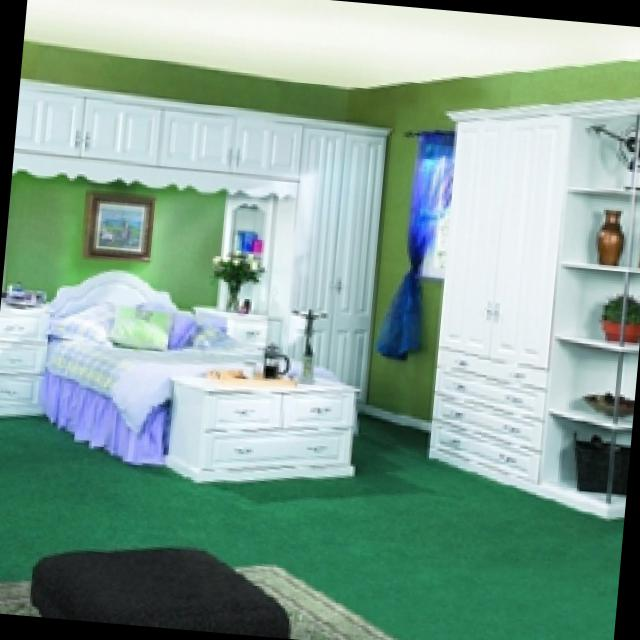2001: (424, 141, 448, 273)
basket crop: (571, 435, 626, 492)
bed -occluded-: (39, 269, 330, 460)
bouquet: (210, 247, 259, 308)
cabinet door: (12, 78, 298, 197), (167, 373, 352, 477)
carpet floor: (0, 411, 614, 640)
ceiling beam: (24, 0, 640, 87)
curtain crop: (376, 130, 449, 355)
cushion occluded: (105, 302, 168, 344)
large bowl: (580, 387, 632, 416)
night stand part: (0, 297, 45, 411)
ottoman: (27, 542, 289, 631)
painting crop: (78, 186, 150, 257)
plant -x: (601, 292, 638, 340)
rug -partially obscured-: (0, 562, 399, 640)
shelves crop: (539, 97, 640, 515)
vase -X: (591, 205, 619, 260), (235, 227, 253, 249), (244, 238, 259, 247)
wardrobe part: (426, 97, 640, 515), (424, 104, 572, 487), (280, 120, 384, 394)
